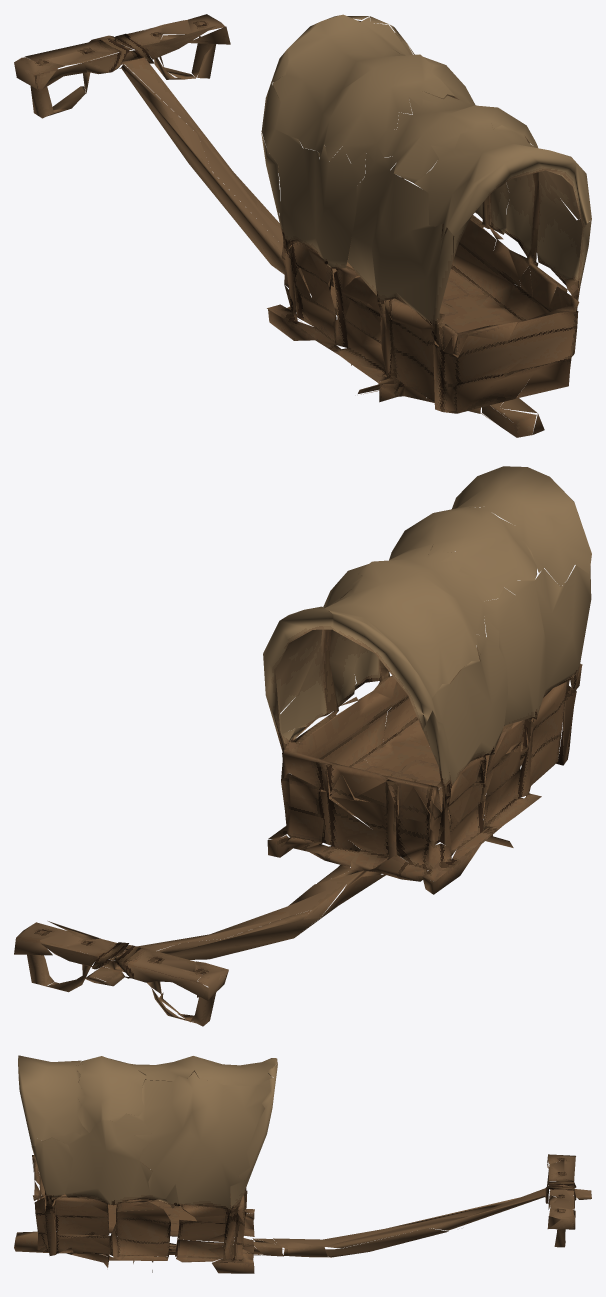
Rendered from carreta_sin_ruedas.glb.
3 renders of one model, top to bottom at view 1: azimuth 30°, elevation 25°; view 2: azimuth 150°, elevation 25°; view 3: azimuth 270°, elevation 25°, orthographic. The views are drawn at different scales.
Parts seen in each view (by area): view 1: carreta; view 2: carreta; view 3: carreta.
Boxes of the visible parts, x1,y1,x2,y2 form: carreta: (14,14,591,437); carreta: (14,466,591,1026); carreta: (14,1055,591,1273).
Bounding box in the file's own units: 0.5274 × 0.7497 × 2.01.
1 material, 1 textured.
